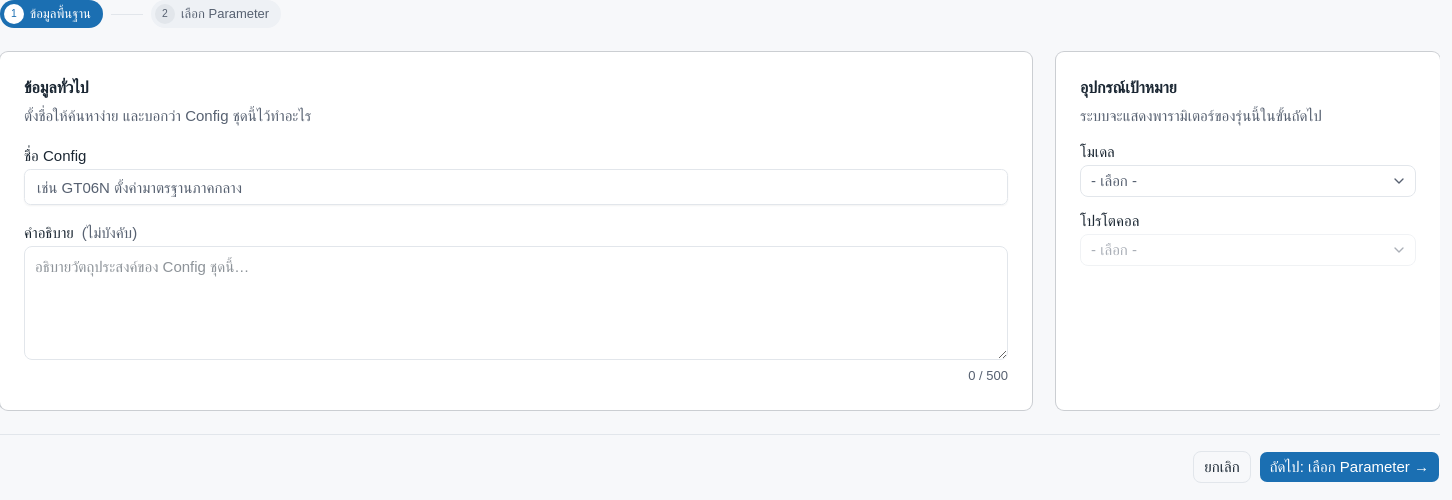
ConfigWizard: ล็อกโปรโตคอลตามทะเบียนโมเดล (รีวิวพี่เลี้ยง 19 ต.ค.) › โมเดลที่รองรับโปรโตคอลเดียวในทะเบียน: เลือกโปรโตคอลให้อัตโนมัติและล็อกช่อง
The width and height of the screenshot is (1452, 500).
Click the dropdown named "โมเดล" at (1114, 180), box [1080,165,1416,197]
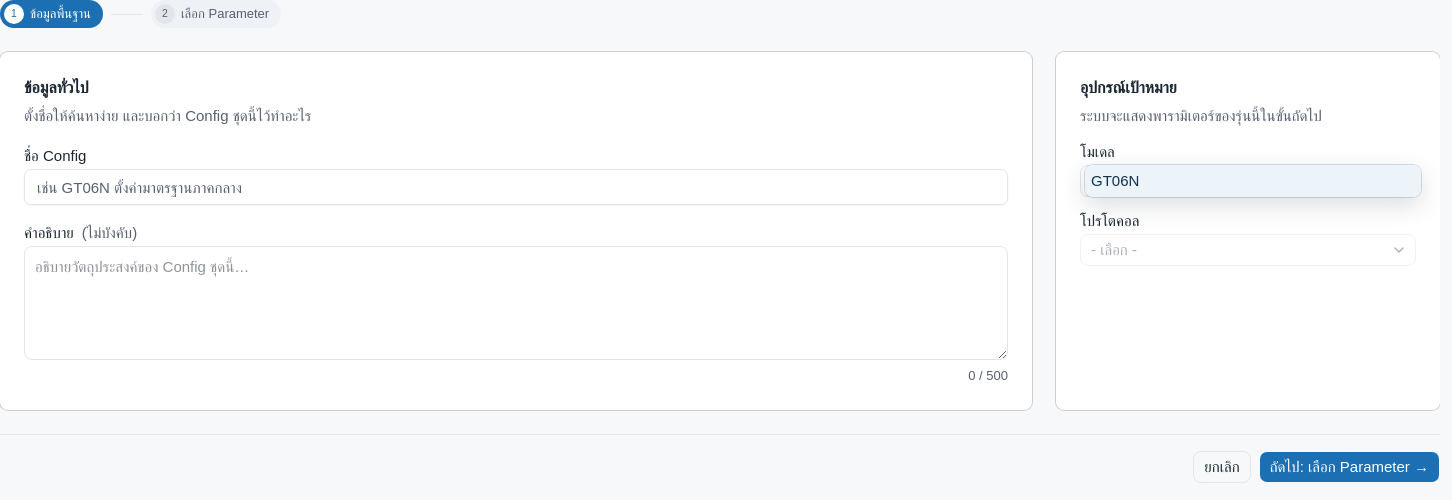
Click the option "GT06N" at (1115, 180), box [1085,165,1421,197]
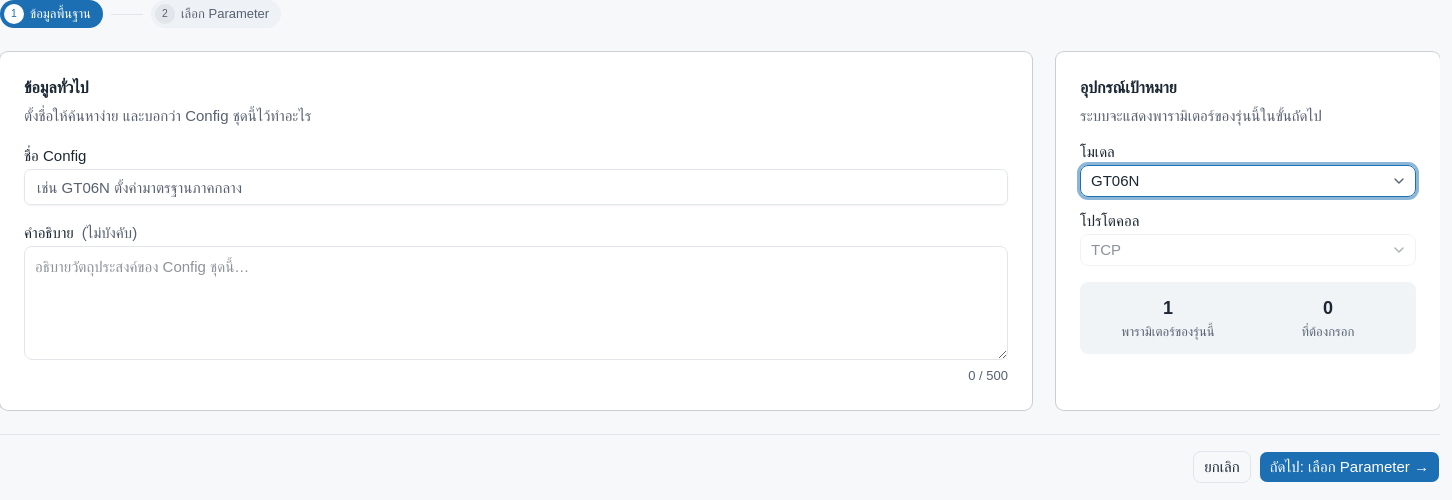
Check: the dropdown named "โปรโตคอล" is disabled, box [1080,234,1416,266]
Check: the dropdown named "โปรโตคอล" shows "TCP", box [1080,234,1416,266]
